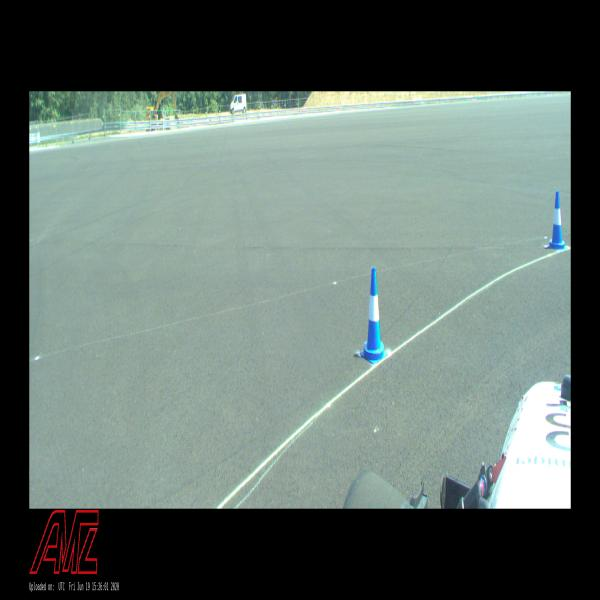blue_cone: (360, 266, 388, 364), (547, 191, 565, 250)
